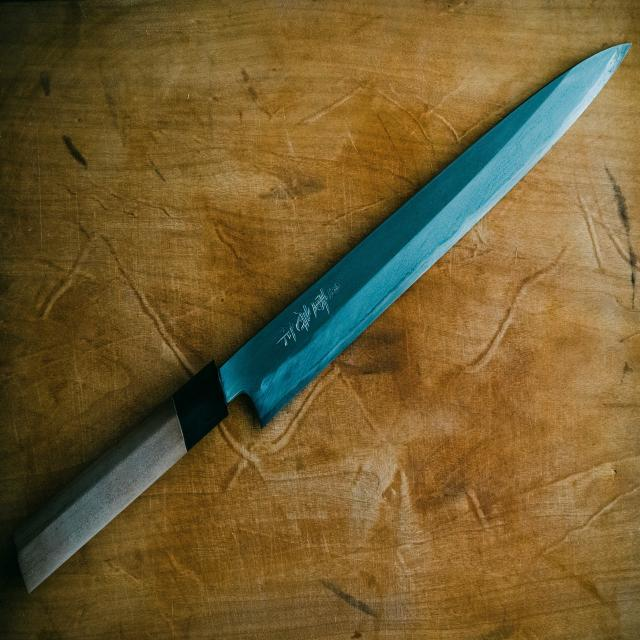knife: (15, 48, 630, 599)
